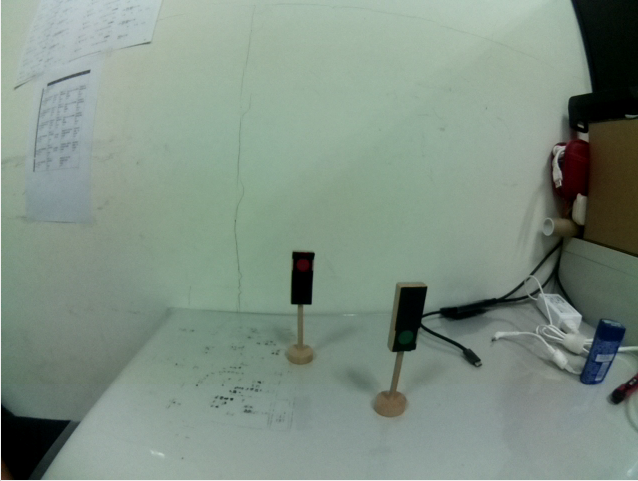Green: (388, 275, 427, 354)
Red: (288, 247, 318, 308)
